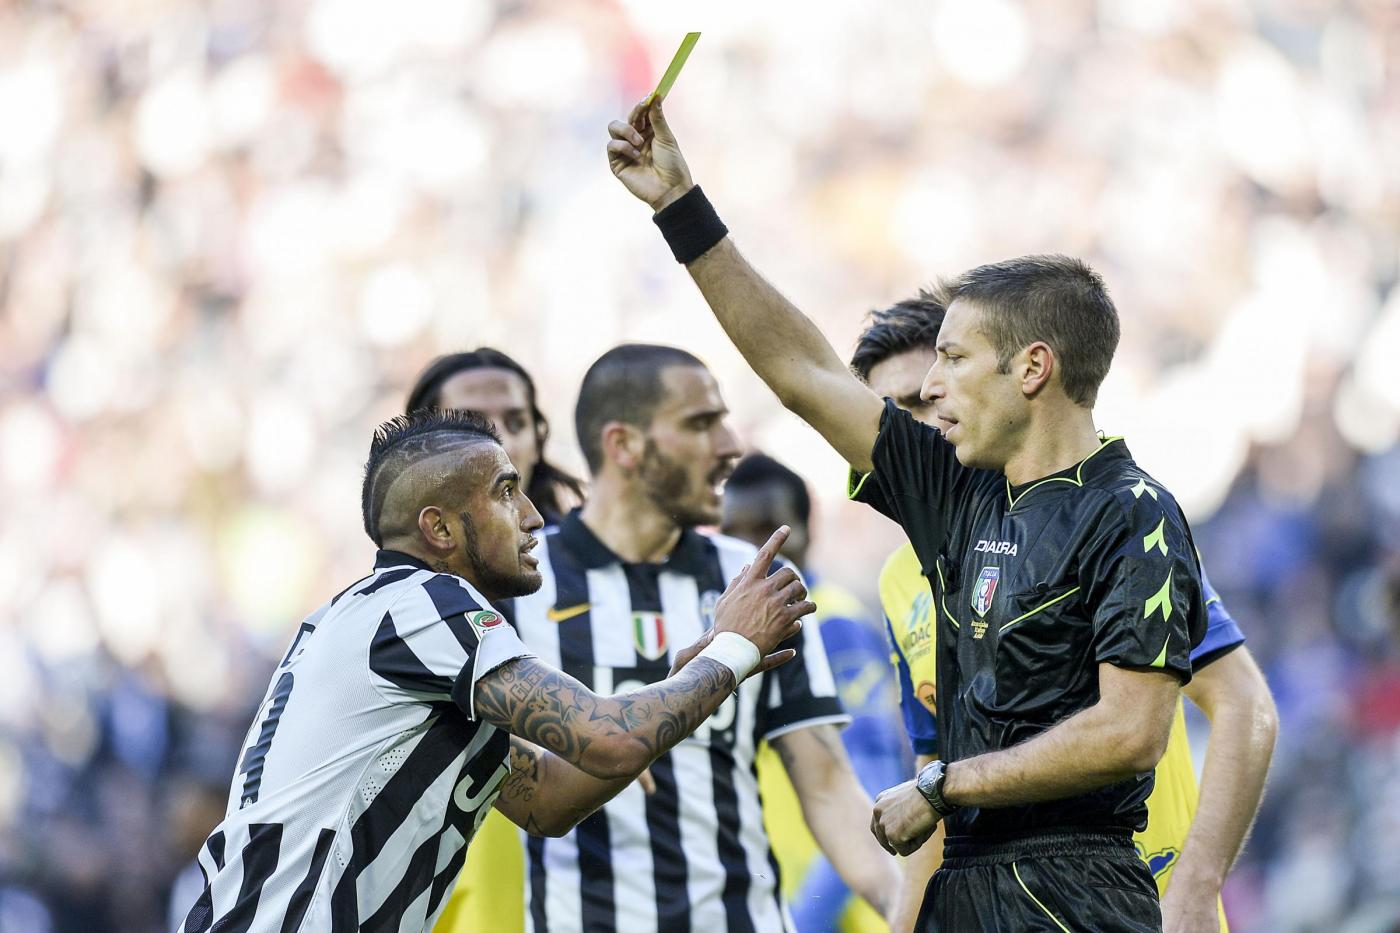yellow_card: (576, 26, 763, 208)
